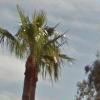Palm tree: (9, 8, 68, 100)
